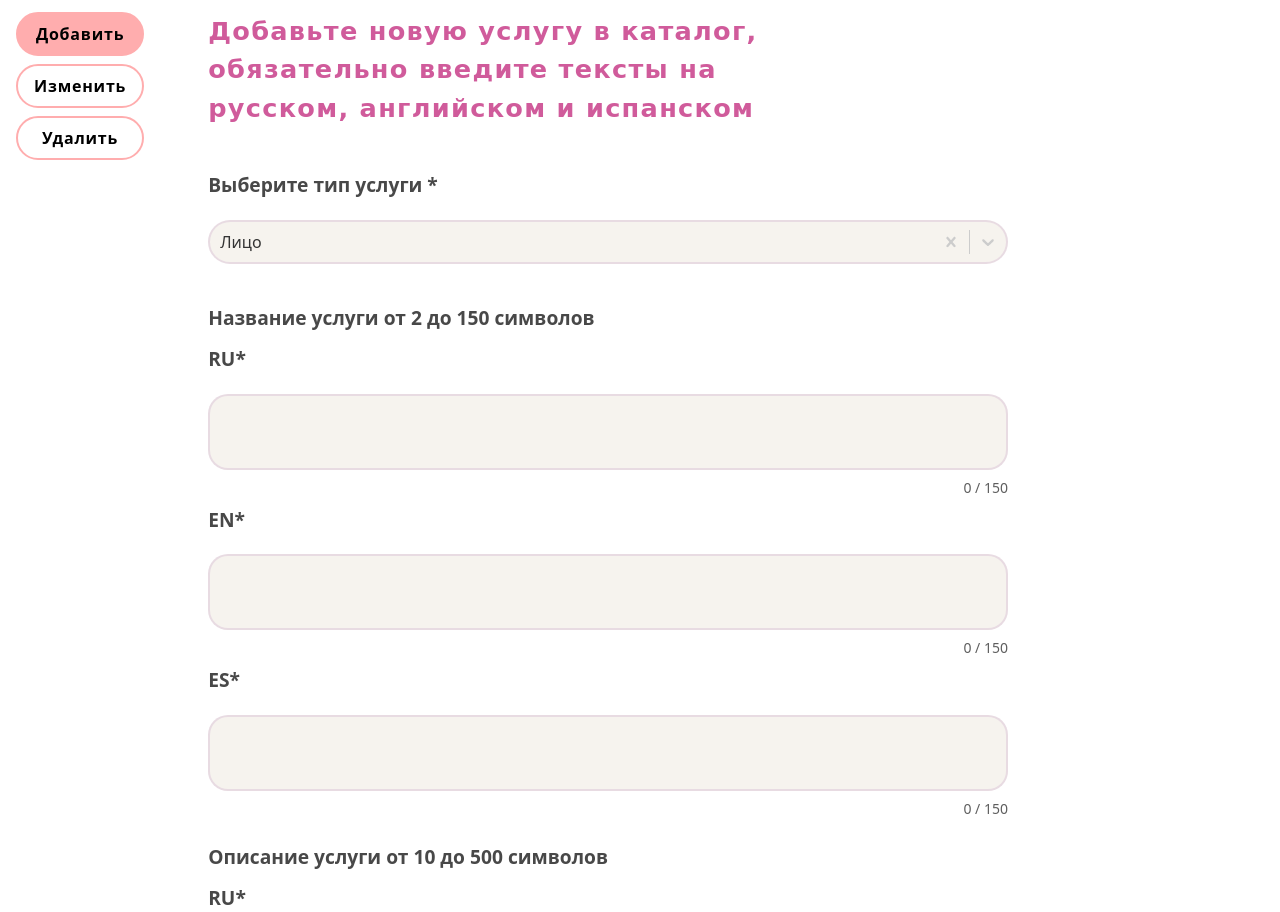
DashboardPanel — change-service form › shows a card for every saved service
Click the button "Изменить": [80, 86] box [16, 64, 144, 108]
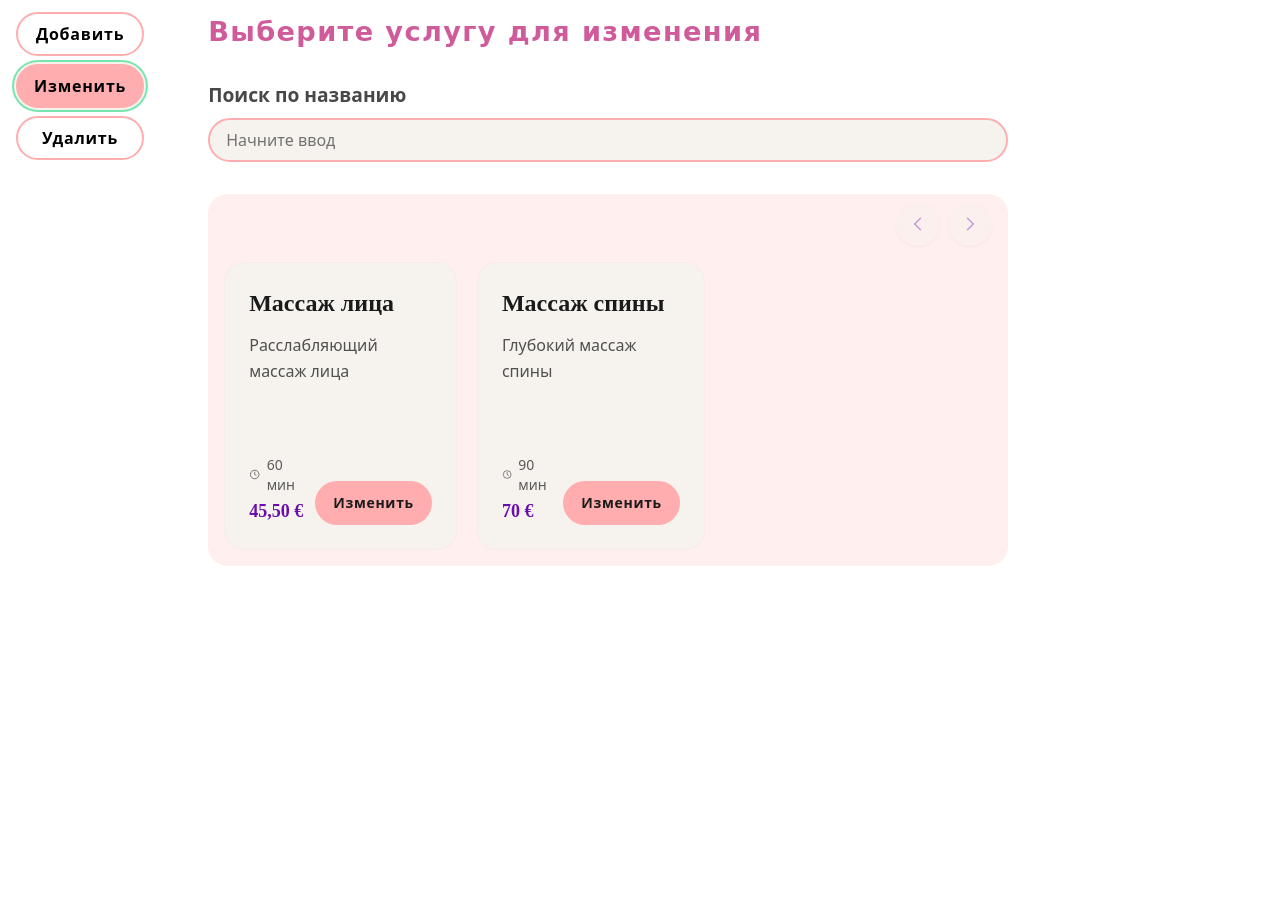
Expected: the heading "Массаж лица" is shown, [249, 290, 394, 316]
Expected: the heading "Массаж спины" is shown, [502, 287, 680, 320]
